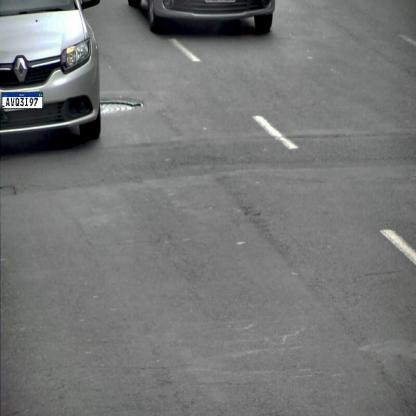PlacaM: (2, 92, 43, 109)
